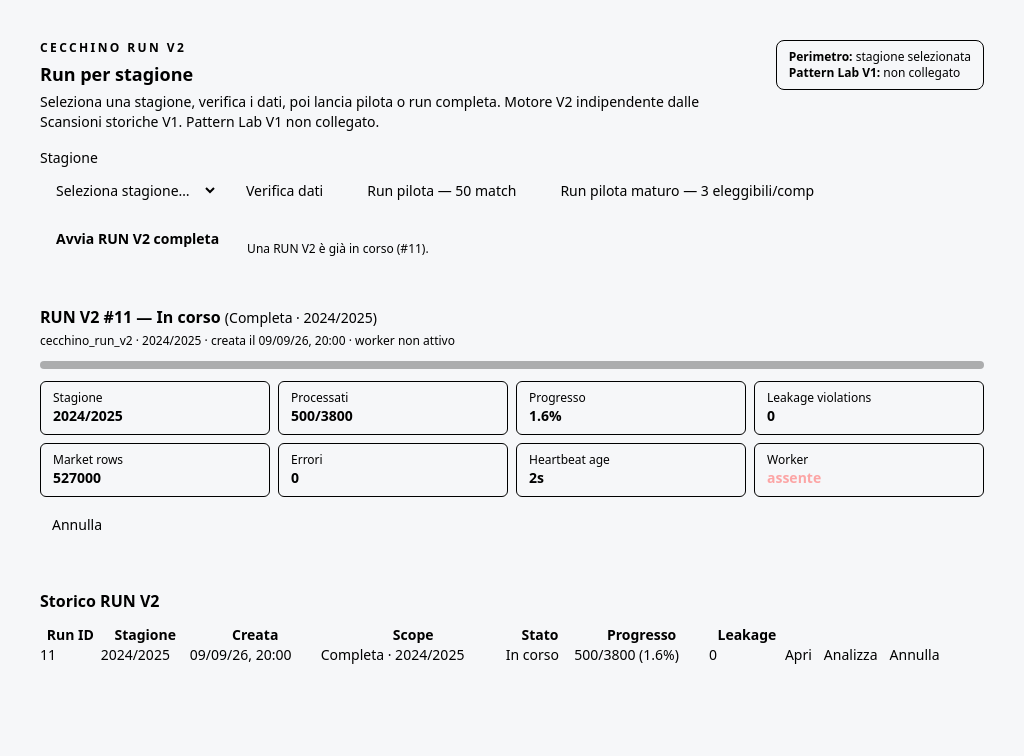
CecchinoRunV2Section › una RUN in corso blocca un secondo avvio
The image size is (1024, 756).
Expected: the element with test id "run-v2-active-panel" is shown, [24,289,1000,557]
Select "2024/2025" in the dropdown with test id "run-v2-season-select" at (129, 190), box [40,172,218,209]
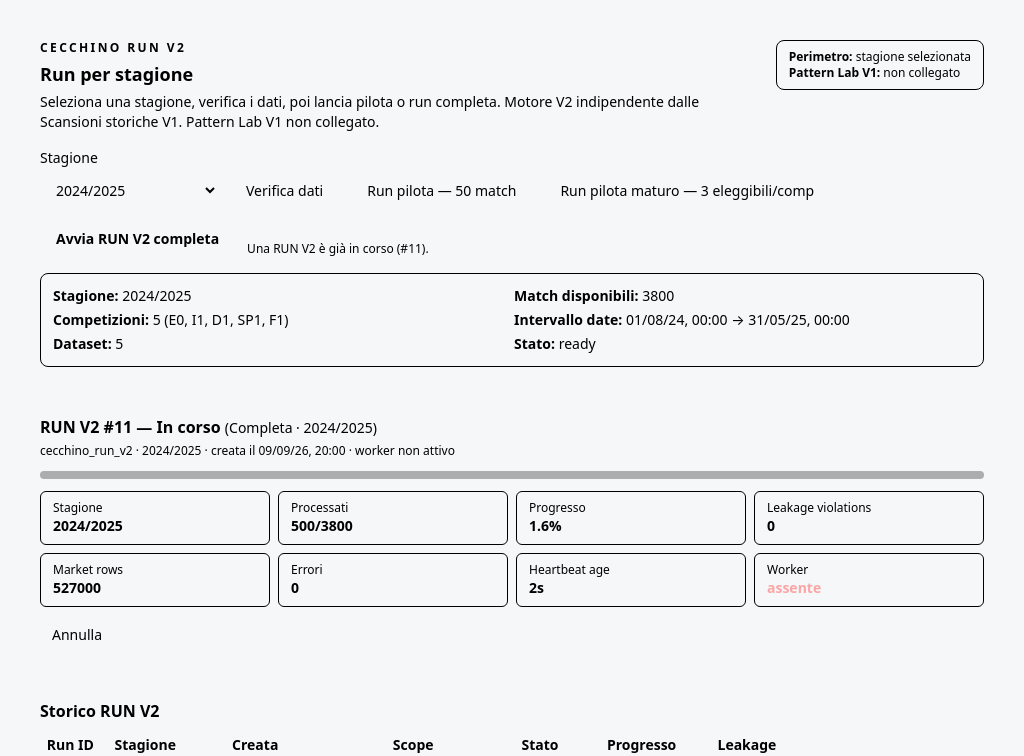
Expected: the button with test id "run-v2-start-full" is disabled, [40,221,235,257]
Expected: the element with test id "run-v2-preflight-panel" is shown, [40,273,984,367]
